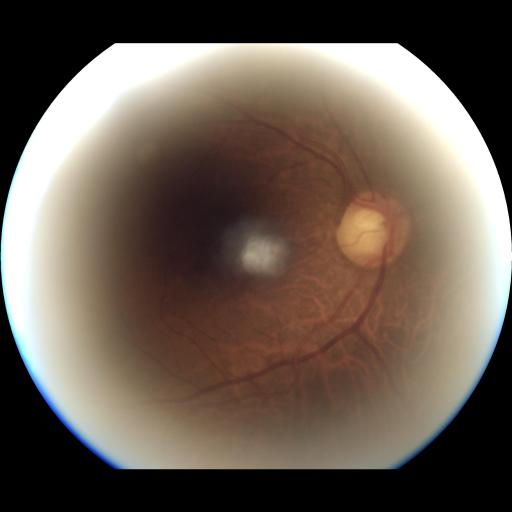Optic Cup: (352, 210, 388, 253)
Optic Disc: (336, 193, 412, 268)
